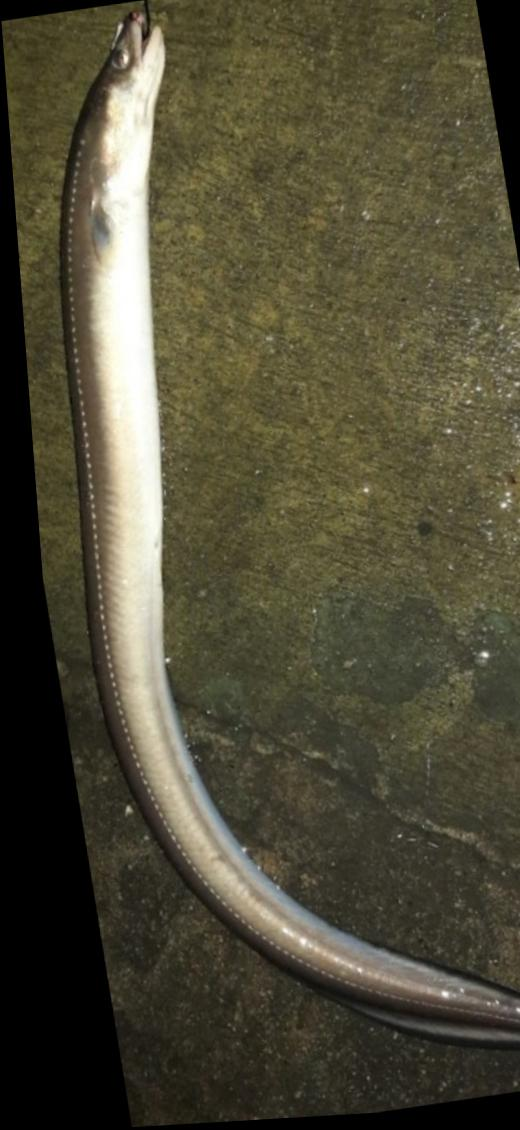fish: (57, 15, 520, 1056)
